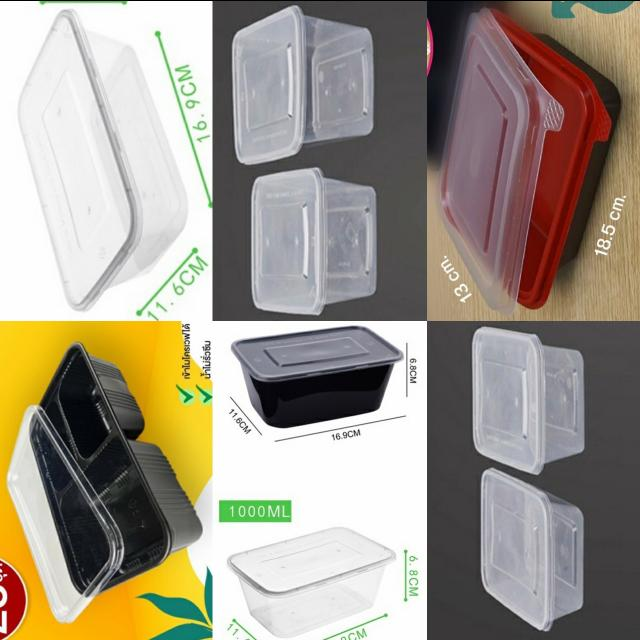plastik: (439, 8, 620, 315), (18, 9, 188, 310), (29, 341, 202, 598), (7, 404, 125, 622), (232, 5, 374, 164), (227, 526, 395, 637), (252, 166, 376, 313), (232, 325, 403, 427), (481, 467, 584, 629), (472, 326, 585, 473)
